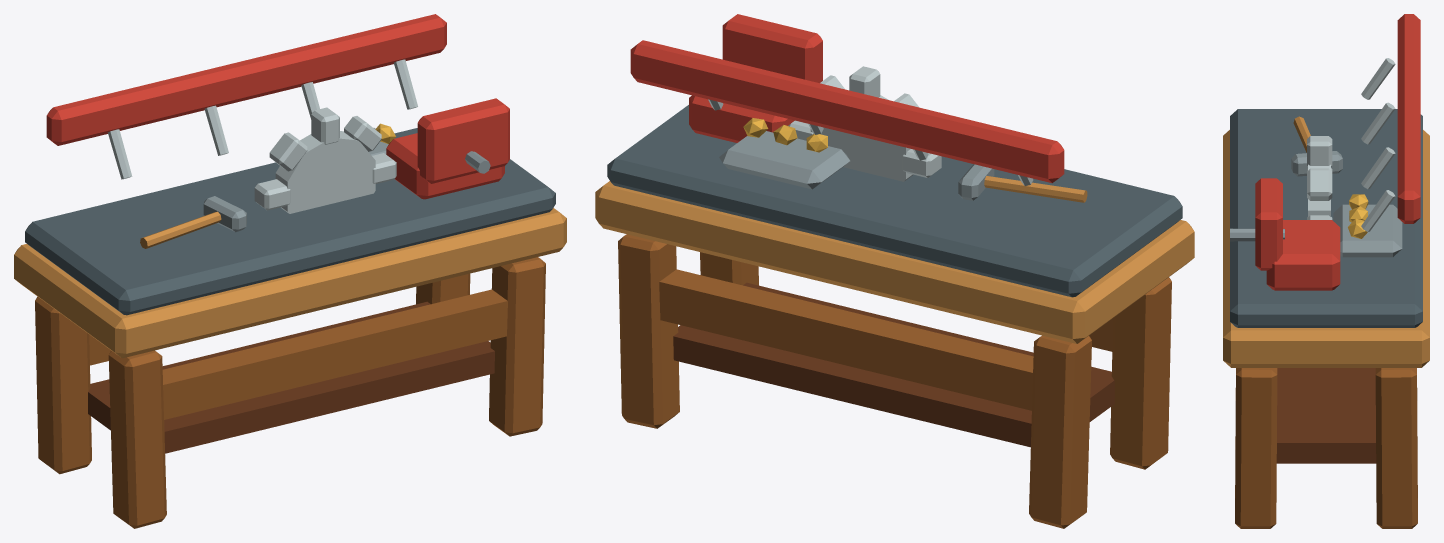
The model's file is station_repair_bench.glb.
The picture shows the model from 3 angles, left to right: view 1: azimuth 30°, elevation 25°; view 2: azimuth 150°, elevation 25°; view 3: azimuth 270°, elevation 25°; orthographic projection. The views are drawn at different scales.
Parts seen in each view (by area): view 1: Metal_Worktop, Worktop.002, Front_Brace.002, Tool_Rail, Lower_Shelf.002, Leg_1_1.002, Leg_2_1.002, Leg_1_2.002, Clamp_Jaw, Repair_Gear_Hub, Clamp_Base, Leg_2_2.002 (+6 smaller); view 2: Metal_Worktop, Worktop.002, Back_Brace.002, Tool_Rail, Lower_Shelf.002, Leg_1_2.002, Leg_2_2.002, Leg_1_1.002, Clamp_Jaw, Parts_Tray, Repair_Gear_Hub, Clamp_Base (+5 smaller); view 3: Metal_Worktop, Worktop.002, Lower_Shelf.002, Leg_2_1.002, Leg_2_2.002, Tool_Rail, Clamp_Base, Parts_Tray, Clamp_Jaw, Repair_Gear_Tooth_2, Repair_Gear_Tooth_3, Repair_Hammer_Head (+8 smaller).
Boxes of the visible parts, bbox=[...] form: Metal_Worktop: bbox=[25, 128, 555, 315]; Worktop.002: bbox=[14, 208, 566, 358]; Front_Brace.002: bbox=[162, 289, 507, 419]; Tool_Rail: bbox=[46, 14, 446, 145]; Lower_Shelf.002: bbox=[88, 301, 494, 453]; Leg_1_1.002: bbox=[108, 350, 166, 528]; Leg_2_1.002: bbox=[489, 257, 545, 436]; Leg_1_2.002: bbox=[35, 296, 91, 474]; Clamp_Jaw: bbox=[417, 98, 509, 183]; Repair_Gear_Hub: bbox=[275, 131, 375, 213]; Clamp_Base: bbox=[386, 133, 504, 199]; Leg_2_2.002: bbox=[416, 273, 470, 304]; Metal_Worktop: bbox=[607, 105, 1182, 297]; Worktop.002: bbox=[595, 181, 1194, 343]; Back_Brace.002: bbox=[659, 269, 1033, 410]; Tool_Rail: bbox=[630, 40, 1064, 183]; Lower_Shelf.002: bbox=[673, 282, 1114, 447]; Leg_1_2.002: bbox=[1029, 335, 1091, 528]; Leg_2_2.002: bbox=[618, 234, 679, 428]; Leg_1_1.002: bbox=[1110, 277, 1171, 469]; Clamp_Jaw: bbox=[722, 14, 822, 82]; Parts_Tray: bbox=[719, 131, 849, 189]; Repair_Gear_Hub: bbox=[810, 95, 913, 181]; Clamp_Base: bbox=[689, 95, 794, 142]; Metal_Worktop: bbox=[1230, 109, 1422, 327]; Worktop.002: bbox=[1223, 130, 1429, 367]; Lower_Shelf.002: bbox=[1276, 368, 1376, 463]; Leg_2_1.002: bbox=[1235, 368, 1277, 528]; Leg_2_2.002: bbox=[1375, 368, 1417, 528]; Tool_Rail: bbox=[1397, 14, 1420, 223]; Clamp_Base: bbox=[1266, 220, 1340, 290]; Parts_Tray: bbox=[1333, 204, 1402, 257]; Clamp_Jaw: bbox=[1255, 178, 1282, 270]; Repair_Gear_Tooth_2: bbox=[1307, 168, 1332, 200]; Repair_Gear_Tooth_3: bbox=[1307, 136, 1332, 166]; Repair_Hammer_Head: bbox=[1291, 151, 1342, 176].
Bounding box in the file's own units: 2.15 × 1.6 × 0.9.
